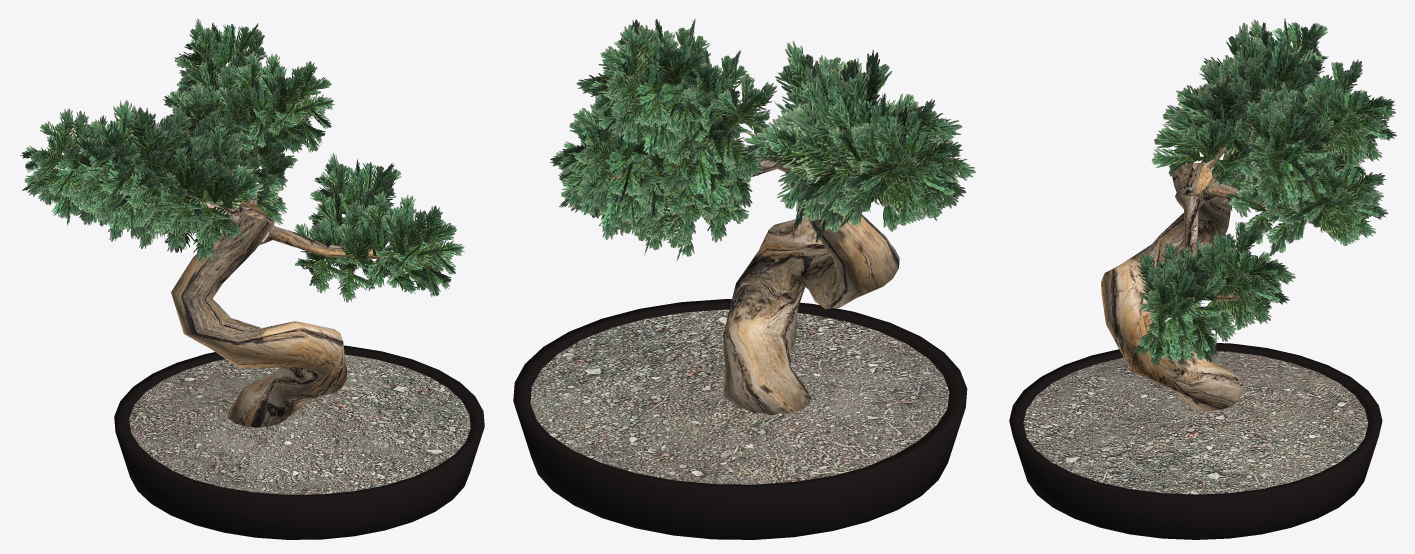
Rendered from bonsai-tree.obj.
3 renders of one model, left to right at view 1: azimuth 30°, elevation 25°; view 2: azimuth 150°, elevation 25°; view 3: azimuth 270°, elevation 25°, orthographic. The views are drawn at different scales.
Parts seen in each view (by area): view 1: Circle, Cylinder.001, Cylinder, Plane.417, Plane.284, Plane.286, Plane.246, Plane.257, Plane.276, Plane.239, Plane.261, Plane.173 (+19 smaller); view 2: Circle, Plane.417, Cylinder.001, Cylinder, Plane.291, Plane.293, Plane.371, Plane.276, Plane.004, Plane.374, Plane.086; view 3: Plane.417, Circle, Cylinder.001, Cylinder, Plane.370, Plane.238, Plane.242, Plane.293, Plane.284, Plane.087, Plane.162, Plane.202 (+2 smaller).
Part boxes in pixels (x1=…): Circle: x1=129, y1=354, x2=470, y2=494; Cylinder.001: x1=114, y1=345, x2=484, y2=539; Cylinder: x1=160, y1=166, x2=395, y2=427; Plane.417: x1=20, y1=19, x2=464, y2=299; Plane.284: x1=127, y1=107, x2=190, y2=166; Plane.286: x1=173, y1=133, x2=212, y2=192; Plane.246: x1=193, y1=215, x2=242, y2=262; Plane.257: x1=164, y1=207, x2=215, y2=252; Plane.276: x1=210, y1=114, x2=246, y2=169; Plane.239: x1=202, y1=143, x2=239, y2=202; Plane.261: x1=74, y1=167, x2=115, y2=226; Plane.173: x1=314, y1=153, x2=349, y2=199; Circle: x1=530, y1=309, x2=949, y2=484; Plane.417: x1=549, y1=19, x2=975, y2=260; Cylinder.001: x1=513, y1=299, x2=967, y2=539; Cylinder: x1=612, y1=142, x2=899, y2=415; Plane.291: x1=757, y1=99, x2=832, y2=182; Plane.293: x1=807, y1=99, x2=859, y2=151; Plane.371: x1=606, y1=71, x2=641, y2=117; Plane.276: x1=776, y1=41, x2=843, y2=94; Plane.004: x1=829, y1=123, x2=865, y2=174; Plane.374: x1=612, y1=95, x2=643, y2=144; Plane.086: x1=583, y1=138, x2=612, y2=182; Plane.417: x1=1135, y1=19, x2=1396, y2=366; Circle: x1=1023, y1=351, x2=1368, y2=494; Cylinder.001: x1=1009, y1=343, x2=1382, y2=539; Cylinder: x1=1101, y1=89, x2=1327, y2=410; Plane.370: x1=1343, y1=111, x2=1383, y2=150; Plane.238: x1=1177, y1=108, x2=1227, y2=162; Plane.242: x1=1211, y1=147, x2=1252, y2=185; Plane.293: x1=1277, y1=49, x2=1318, y2=87; Plane.284: x1=1212, y1=22, x2=1265, y2=76; Plane.087: x1=1336, y1=188, x2=1376, y2=224; Plane.162: x1=1235, y1=272, x2=1269, y2=311; Plane.202: x1=1192, y1=318, x2=1217, y2=356.
Bounding box in the file's own units: 44.47 × 42.95 × 38.25.
4 materials, 3 textured.
